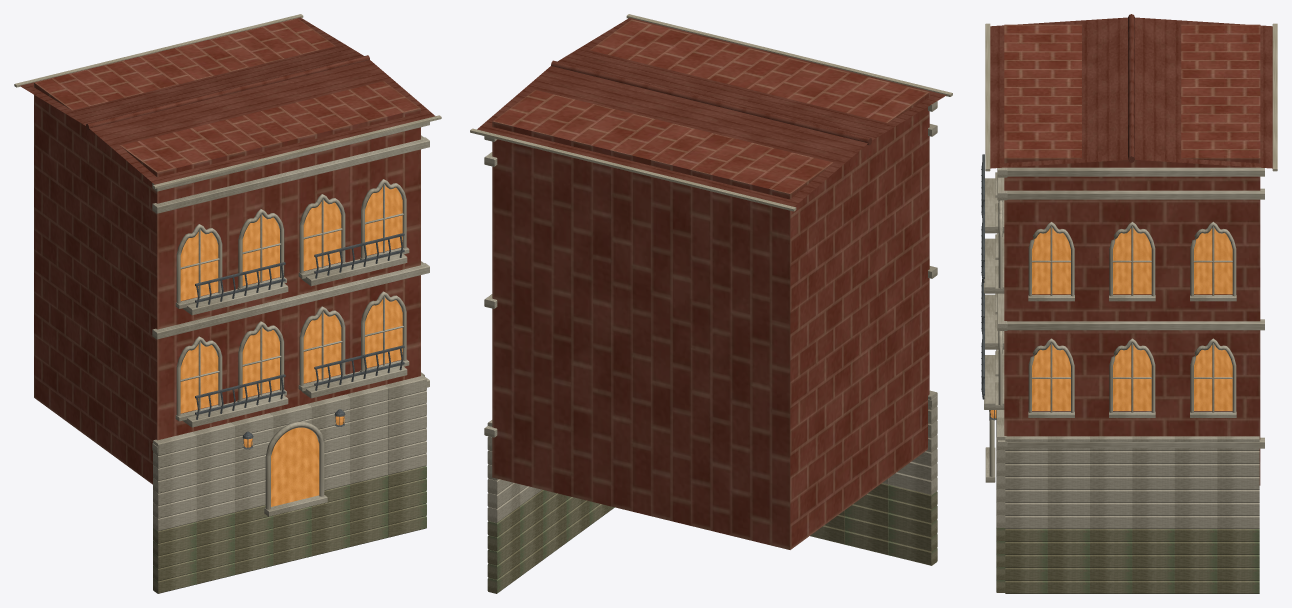
Rendered from venice_palazzo_corner.glb.
3 renders of one model, left to right at view 1: azimuth 30°, elevation 25°; view 2: azimuth 150°, elevation 25°; view 3: azimuth 270°, elevation 25°, orthographic. The views are drawn at different scales.
Parts seen in each view (by area): view 1: venice_palazzo_corner; view 2: venice_palazzo_corner; view 3: venice_palazzo_corner.
Part boxes in pixels (x1=…): venice_palazzo_corner: x1=14, y1=14, x2=441, y2=593; venice_palazzo_corner: x1=470, y1=14, x2=952, y2=593; venice_palazzo_corner: x1=981, y1=14, x2=1277, y2=593.
Bounding box in the file's own units: 5.8 × 8.2 × 5.
2 materials, 2 textured.
